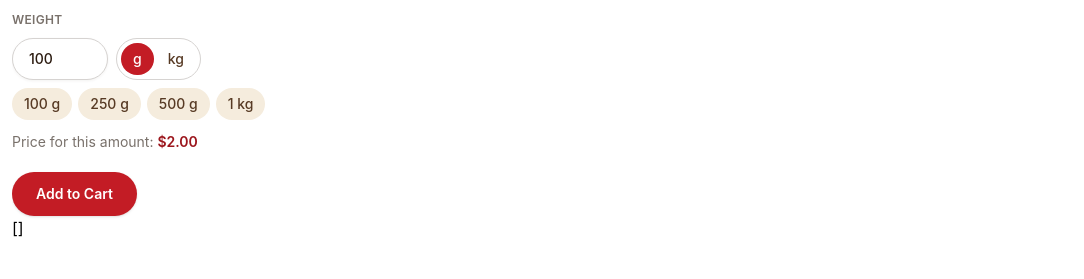
it: AddToCartControl › full variant shows a small "Added to cart" confirmation after adding
Click the button "Add to Cart".
click(74, 194)  # box [12,172,137,216]
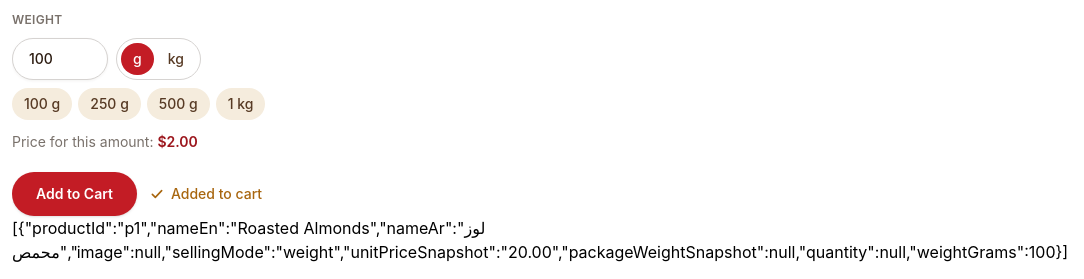
Check: the text "Added to cart" is shown, box [149,184,262,204]
